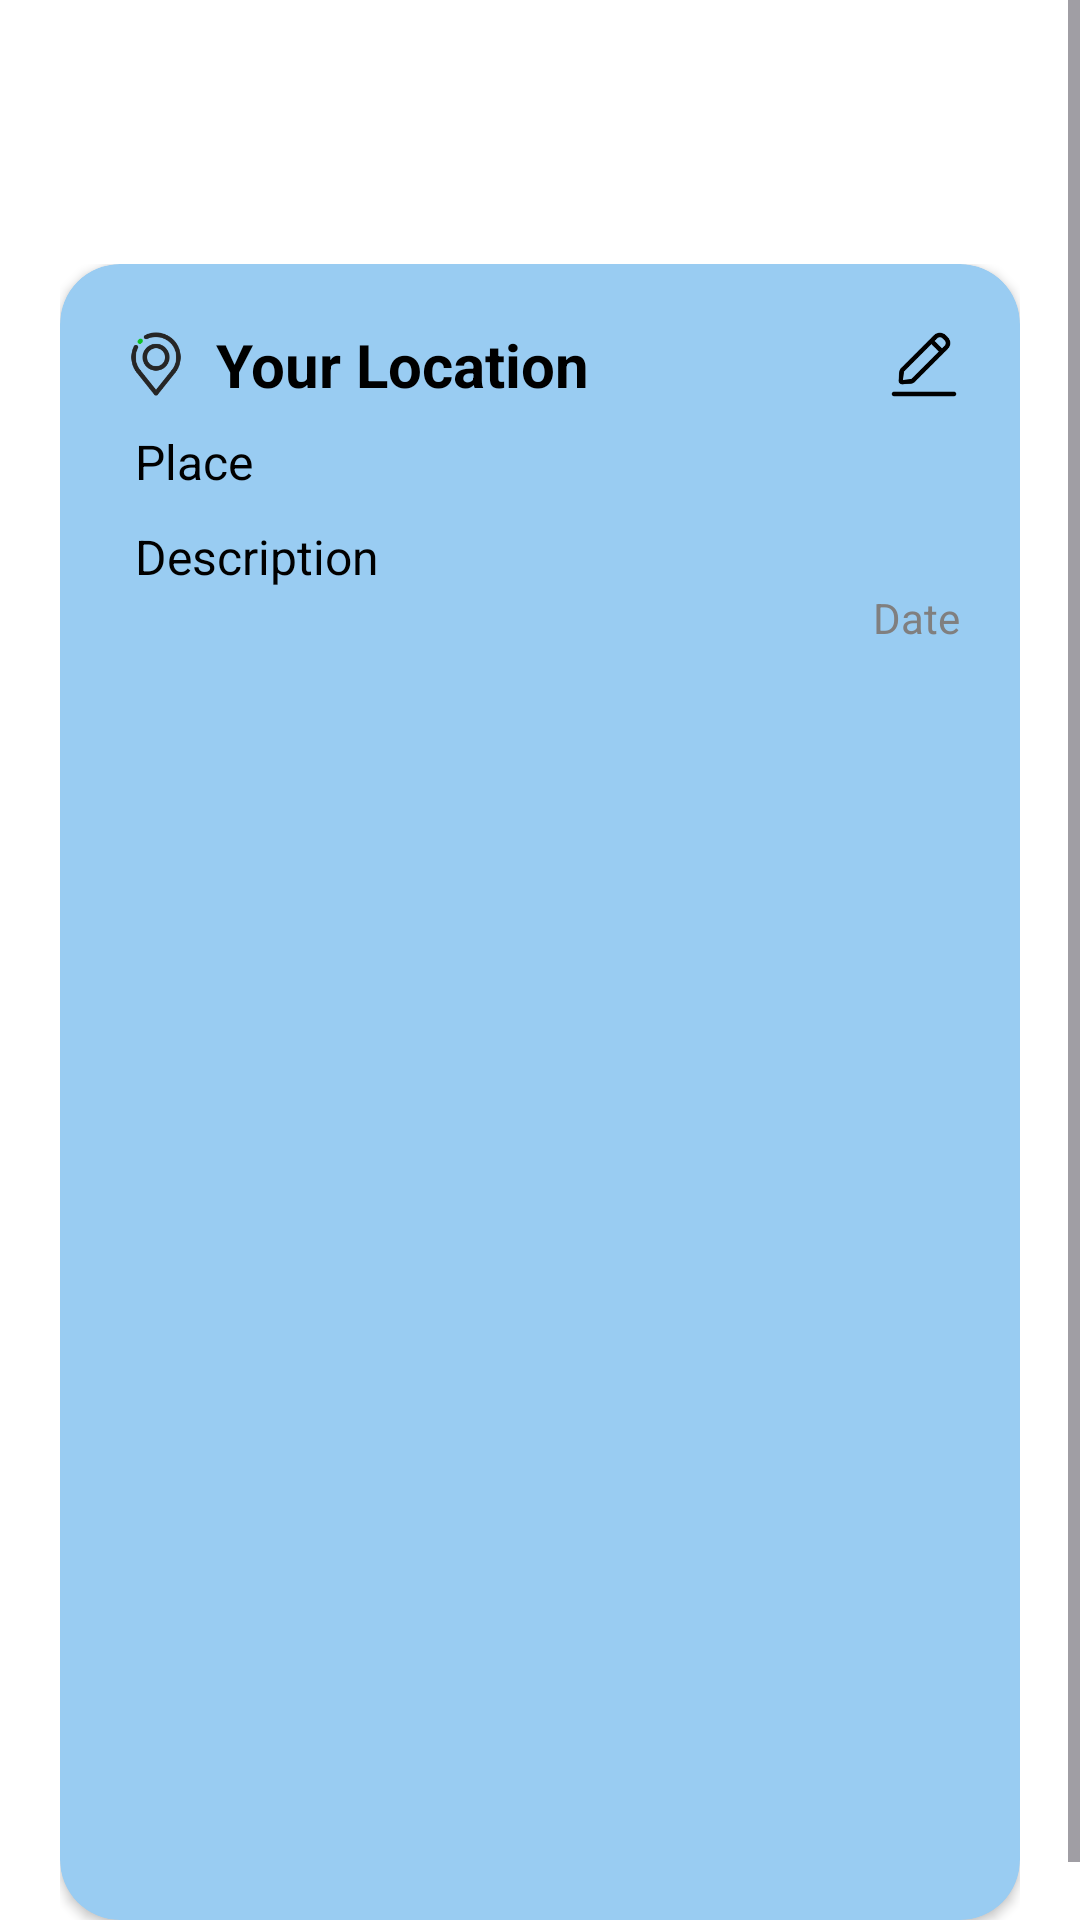

Icons on this 1080*1920 Android screen, each with the point to tap as [x,y]:
edit: [924,364]
